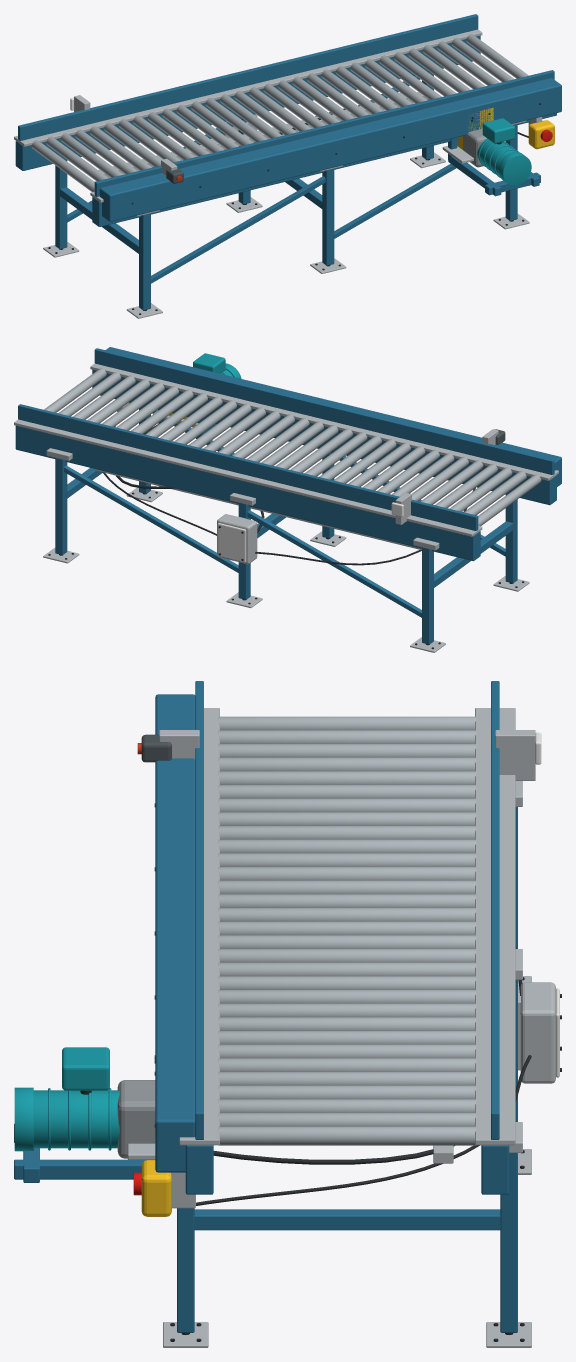
The model's file is pallet_roller_conveyor_zone.glb.
3 views of the same model, one above another, from view 1: azimuth 30°, elevation 25°; view 2: azimuth 150°, elevation 25°; view 3: azimuth 270°, elevation 25° (orthographic). The views are drawn at different scales.
Visible parts, largest first — view 1: GUARD_chain_removable, FRAME_R_guide, FRAME_L_guide, FRAME_R_top_flange, FRAME_R_channel, BRACE_L_A, FRAME_L_channel, LEG_2_L_upright, LEG_1_L_upright, BRACE_L_B, LEG_1_R_upright, LEG_1_crossbar (+40 smaller); view 2: FRAME_R_channel, FRAME_L_guide, FRAME_R_guide, FRAME_R_top_flange, FRAME_L_top_flange, FRAME_L_channel, GUARD_chain_removable, BRACE_R_B, BRACE_R_A, LEG_3_R_upright, LEG_1_R_upright, CTRL_junction_lid (+38 smaller); view 3: GUARD_chain_removable, FRAME_R_top_flange, FRAME_L_top_flange, LEG_3_crossbar, KIN_roller_30, DRIVE_motor_body, FRAME_L_guide, FRAME_R_guide, KIN_roller_00, KIN_roller_03, KIN_roller_06, KIN_roller_09 (+42 smaller).
Part boxes in pixels (<box>): GUARD_chain_removable: <box>99,78,561,221</box>; FRAME_R_guide: <box>18,14,478,140</box>; FRAME_L_guide: <box>94,70,554,196</box>; FRAME_R_top_flange: <box>14,29,482,146</box>; FRAME_R_channel: <box>15,35,480,170</box>; BRACE_L_A: <box>151,176,325,283</box>; FRAME_L_channel: <box>92,113,556,226</box>; LEG_2_L_upright: <box>322,168,334,265</box>; LEG_1_L_upright: <box>139,213,150,310</box>; BRACE_L_B: <box>334,163,456,238</box>; LEG_1_R_upright: <box>55,160,67,249</box>; LEG_1_crossbar: <box>60,187,138,253</box>; FRAME_R_channel: <box>15,425,480,561</box>; FRAME_L_guide: <box>94,348,554,474</box>; FRAME_R_guide: <box>18,404,478,530</box>; FRAME_R_top_flange: <box>14,419,482,536</box>; FRAME_L_top_flange: <box>90,363,558,480</box>; FRAME_L_channel: <box>92,369,556,505</box>; GUARD_chain_removable: <box>105,347,561,486</box>; BRACE_R_B: <box>64,465,238,572</box>; BRACE_R_A: <box>247,510,421,617</box>; LEG_3_R_upright: <box>55,458,67,554</box>; LEG_1_R_upright: <box>422,547,433,644</box>; CTRL_junction_lid: <box>217,523,246,562</box>; GUARD_chain_removable: <box>155,694,195,1172</box>; FRAME_R_top_flange: <box>475,708,515,1145</box>; FRAME_L_top_flange: <box>179,708,219,1145</box>; LEG_3_crossbar: <box>194,1209,500,1230</box>; KIN_roller_30: <box>218,1126,476,1145</box>; DRIVE_motor_body: <box>33,1090,119,1148</box>; FRAME_L_guide: <box>195,681,203,1139</box>; FRAME_R_guide: <box>491,681,499,1139</box>; KIN_roller_00: <box>218,716,476,730</box>; KIN_roller_03: <box>218,757,476,771</box>; KIN_roller_06: <box>218,798,476,812</box>; KIN_roller_09: <box>218,839,476,853</box>.
Bounding box in the file's own units: 4.05 × 1.22 × 2.17.
